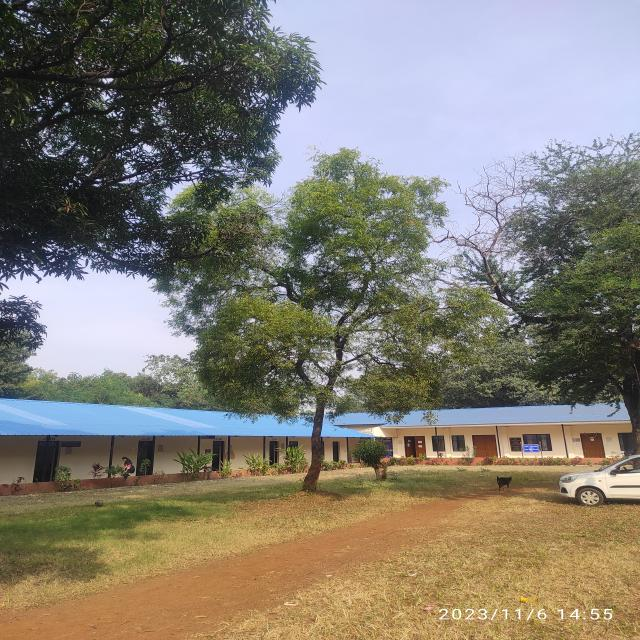Mango Tree: (22, 6, 261, 170)
Neem Tree: (227, 190, 442, 437)
